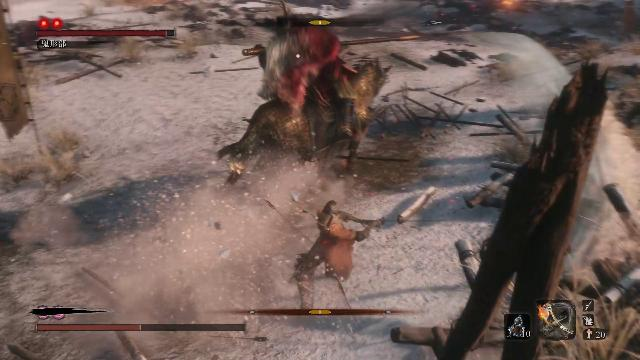sk: (290, 196, 387, 319)
